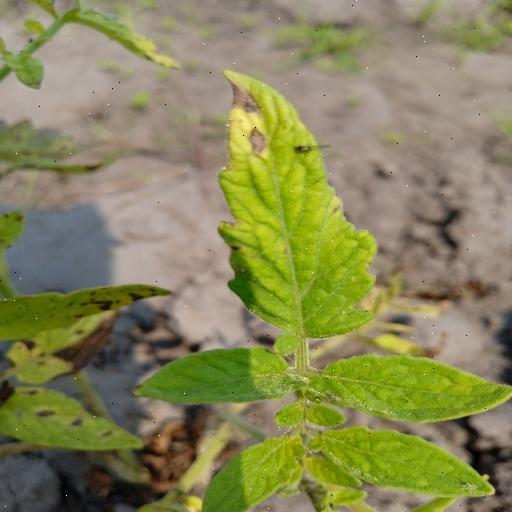Tomato_Brown_Spots: (212, 64, 394, 345), (307, 352, 512, 424), (317, 425, 497, 500), (127, 344, 300, 410), (199, 433, 310, 512)
